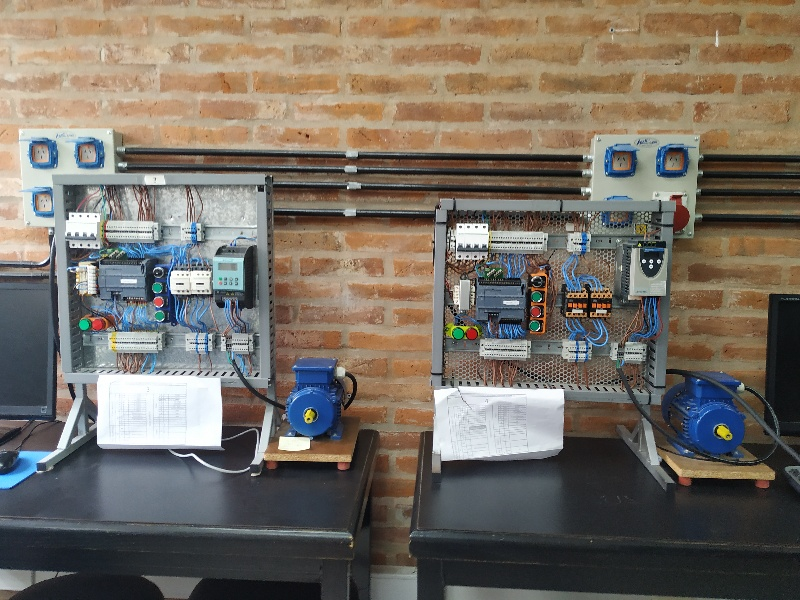Tablero 3: (58, 181, 264, 380)
Tablero 4: (444, 206, 668, 395)
